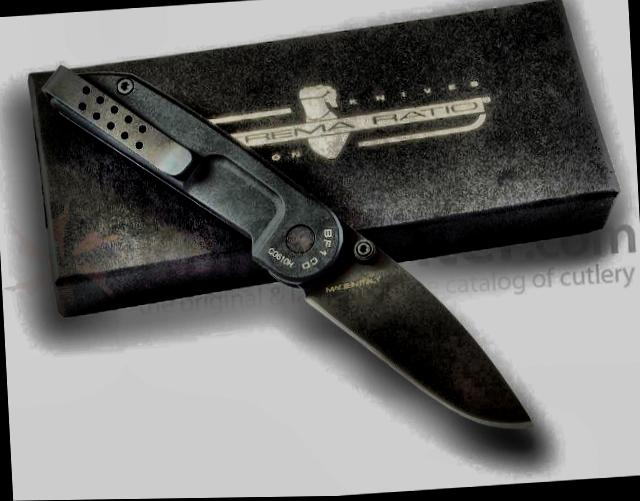knife: (259, 205, 542, 456)
